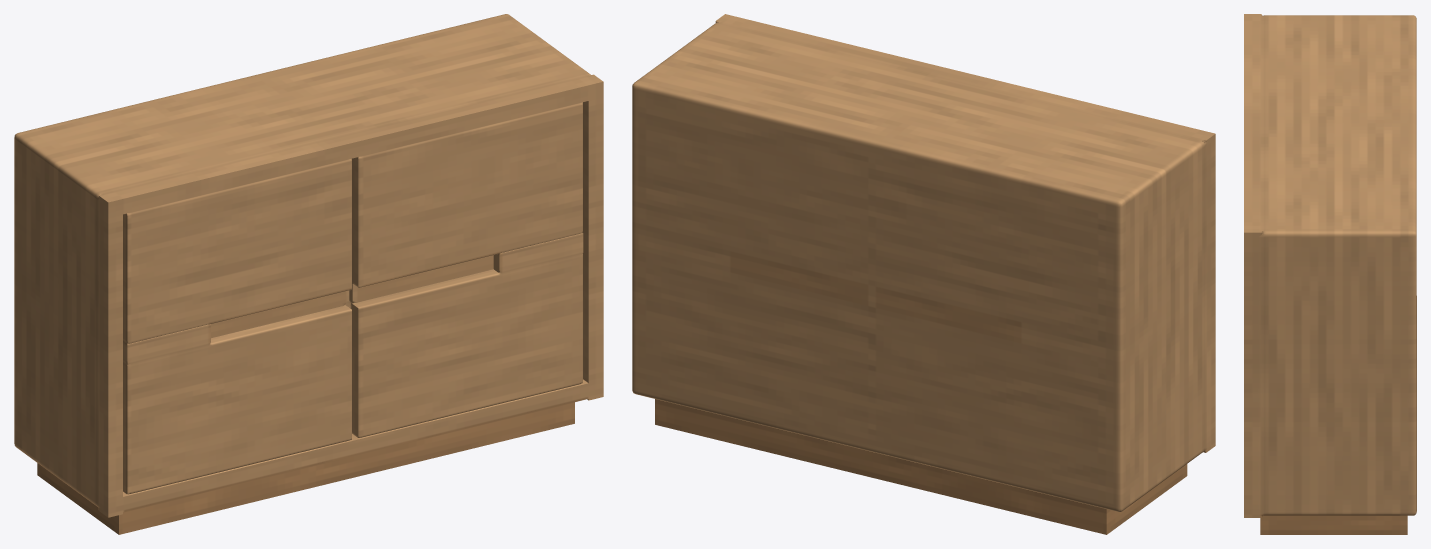
File: dexel.glb
The picture shows the model from 3 angles, left to right: view 1: azimuth 30°, elevation 25°; view 2: azimuth 150°, elevation 25°; view 3: azimuth 270°, elevation 25°; orthographic projection. The views are drawn at different scales.
Bounding box in the file's own units: 1.2 × 0.796 × 0.4006.
1 material, 1 textured.
